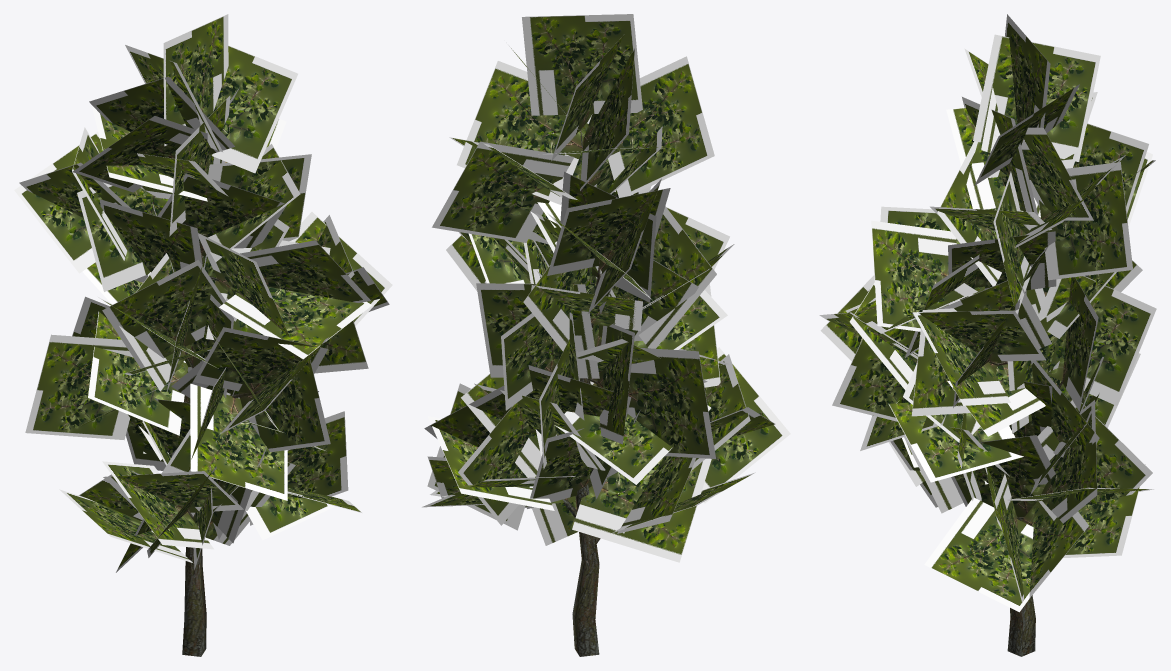
The model's file is SC_yonghengsenlin_28.FBX.
3 renders of one model, left to right at view 1: azimuth 30°, elevation 25°; view 2: azimuth 150°, elevation 25°; view 3: azimuth 270°, elevation 25°, orthographic. The views are drawn at different scales.
Parts seen in each view (by area): view 1: SC_yonghengsenlin_28; view 2: SC_yonghengsenlin_28; view 3: SC_yonghengsenlin_28.
Boxes of the visible parts, x1,y1,x2,y2 form: SC_yonghengsenlin_28: [14, 14, 392, 656]; SC_yonghengsenlin_28: [422, 14, 790, 656]; SC_yonghengsenlin_28: [819, 14, 1156, 656].
Size of the model in its own units: 319 by 607 by 300.
